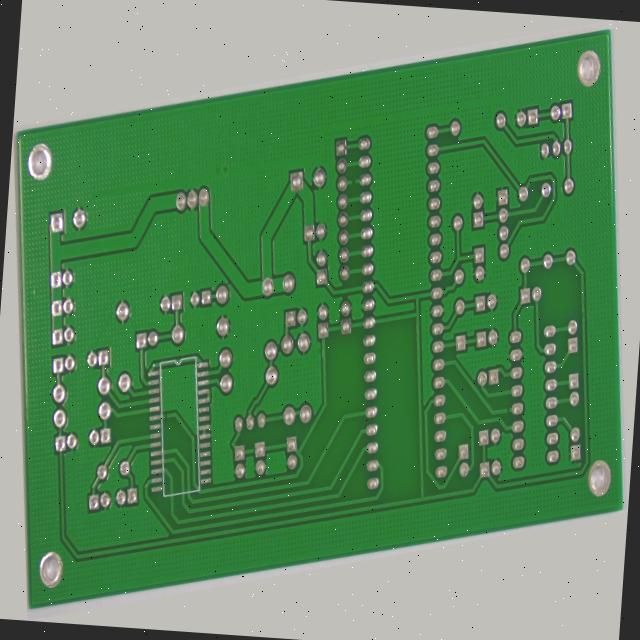open_circuit: (366, 144, 376, 159), (501, 486, 509, 499), (143, 391, 151, 402)
